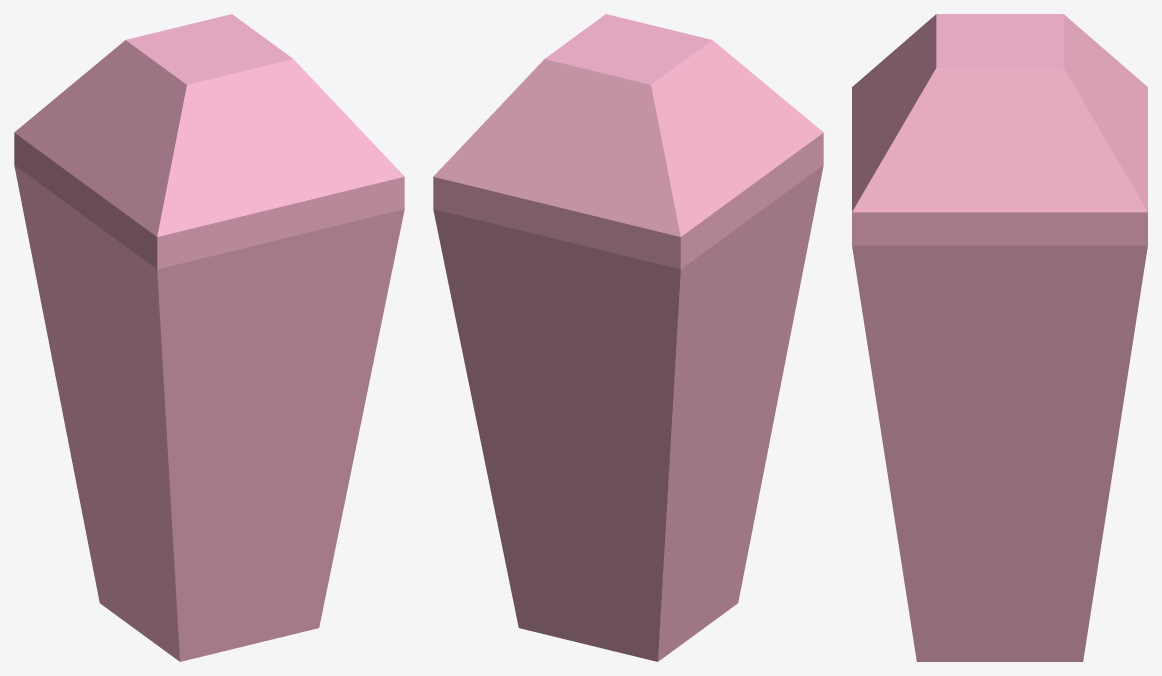
The model's file is detail_crystal.glb.
3 renders of one model, left to right at view 1: azimuth 30°, elevation 25°; view 2: azimuth 150°, elevation 25°; view 3: azimuth 270°, elevation 25°, orthographic. The views are drawn at different scales.
Parts seen in each view (by area): view 1: detail_crystal; view 2: detail_crystal; view 3: detail_crystal.
Part boxes in pixels (<box>): detail_crystal: <box>14,14,404,661</box>; detail_crystal: <box>433,14,823,661</box>; detail_crystal: <box>852,14,1147,661</box>.
Bounding box in the file's own units: 0.1602 × 0.35 × 0.1602.
